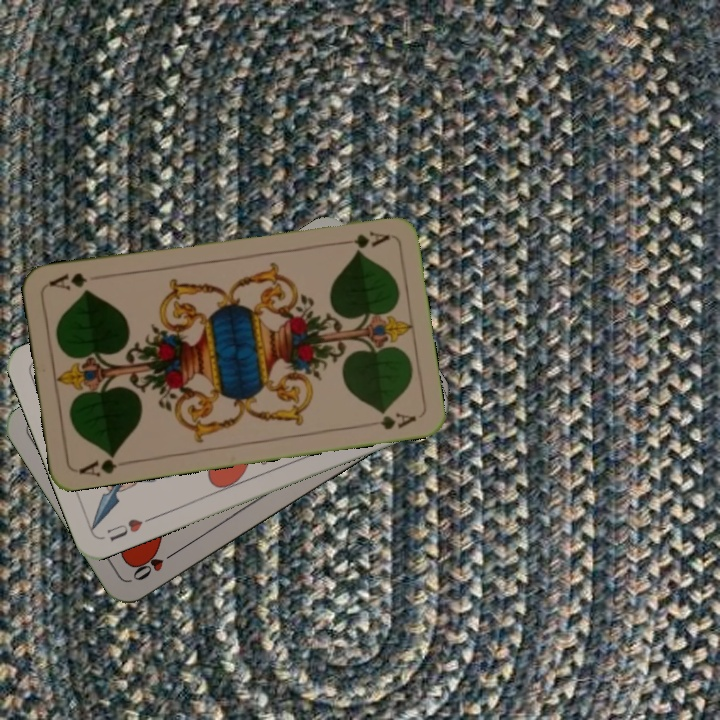GA: (333, 227, 393, 251), (74, 448, 119, 479)
HO: (128, 546, 181, 584)
HU: (102, 512, 156, 544)
